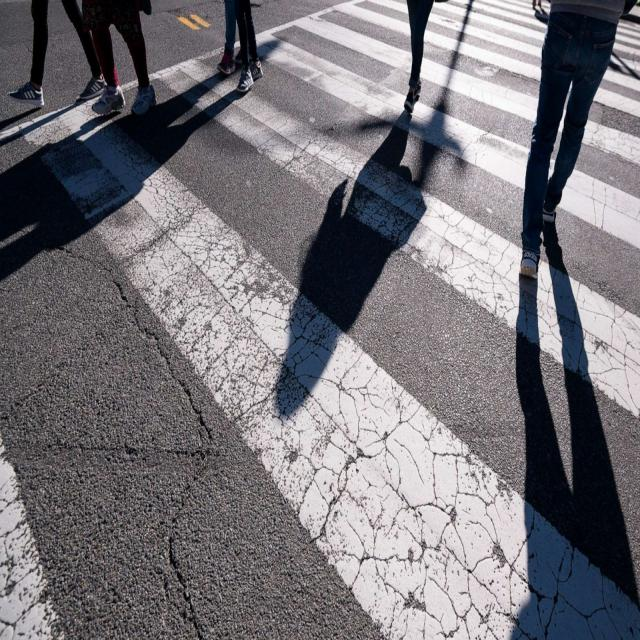Pedestrians: (518, 1, 634, 291), (9, 1, 106, 125), (84, 1, 162, 120), (402, 1, 438, 113), (228, 0, 264, 100)
